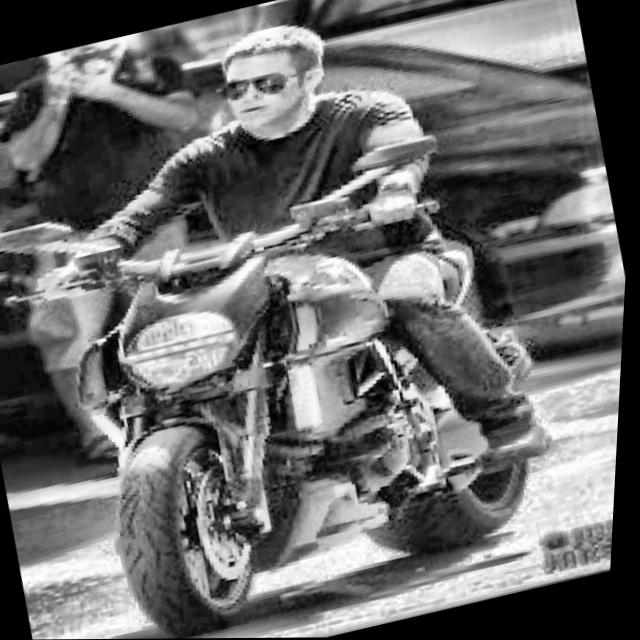motorcycle: (0, 101, 620, 640)
